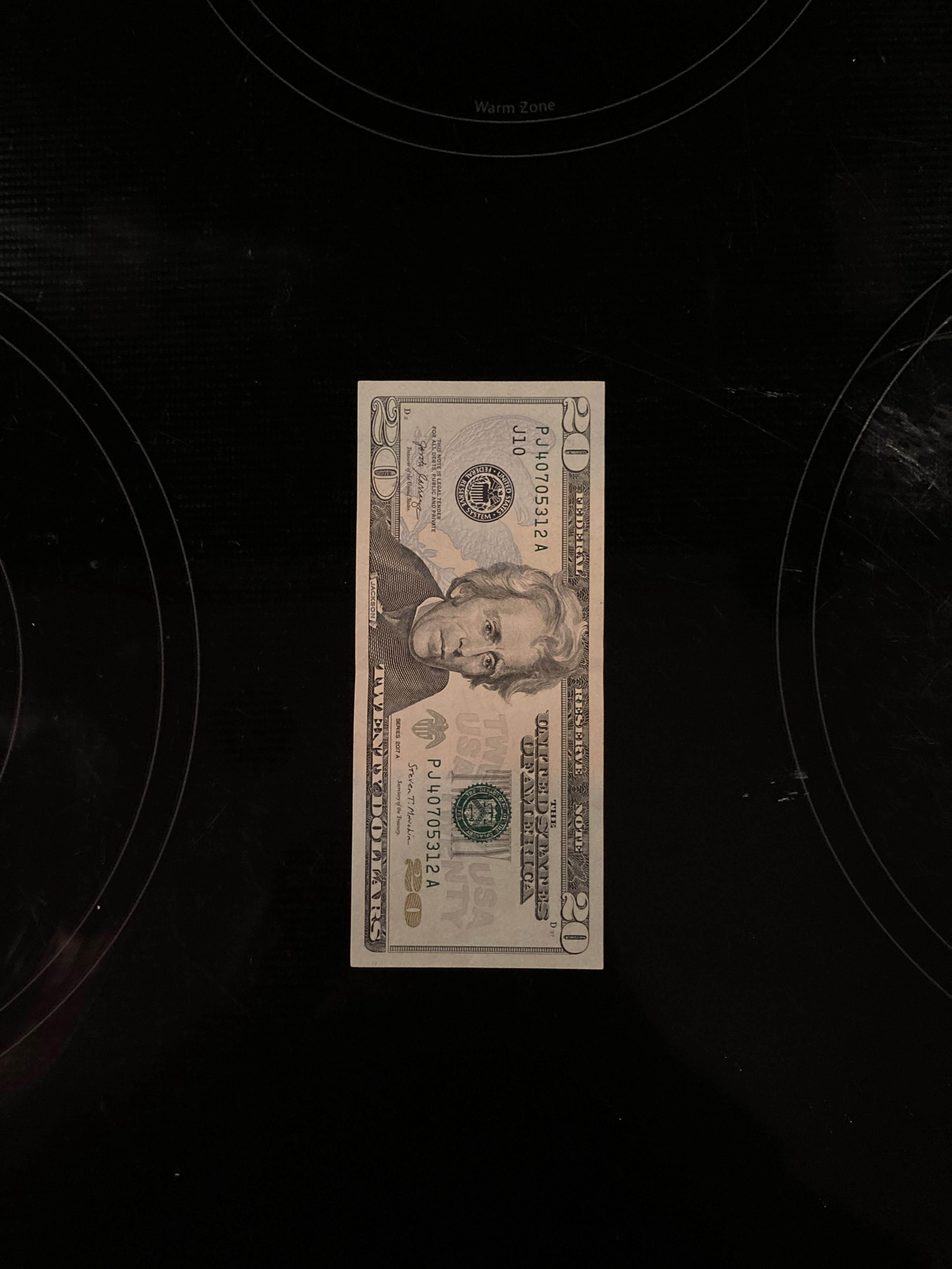twenty-front: (349, 379, 608, 970)
